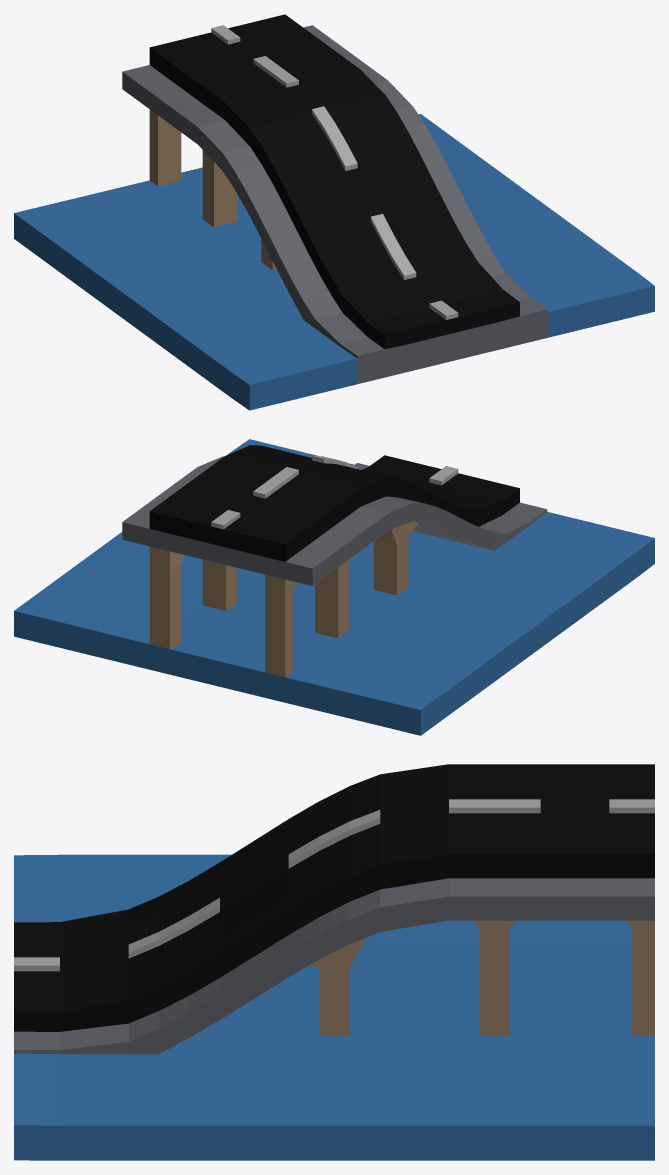
3 views of the same model, one above another, from view 1: azimuth 30°, elevation 25°; view 2: azimuth 150°, elevation 25°; view 3: azimuth 270°, elevation 25° (orthographic). The views are drawn at different scales.
Parts seen in each view (by area): view 1: Street_Ramp_Water_Cube.031; view 2: Street_Ramp_Water_Cube.031; view 3: Street_Ramp_Water_Cube.031.
Part boxes in pixels (bbox=[...]): Street_Ramp_Water_Cube.031: bbox=[14, 14, 654, 410]; Street_Ramp_Water_Cube.031: bbox=[14, 439, 654, 735]; Street_Ramp_Water_Cube.031: bbox=[14, 764, 654, 1160].
Size of the model in its own units: 2 by 0.7638 by 2.
